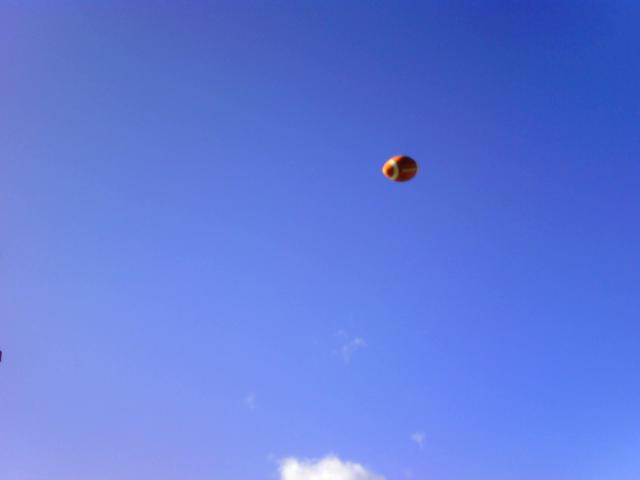football: (377, 148, 421, 188)
